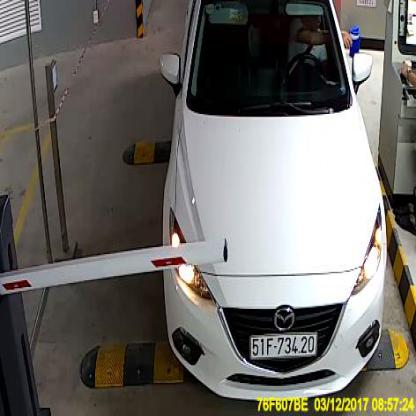biensoxe: (250, 332, 318, 358)
